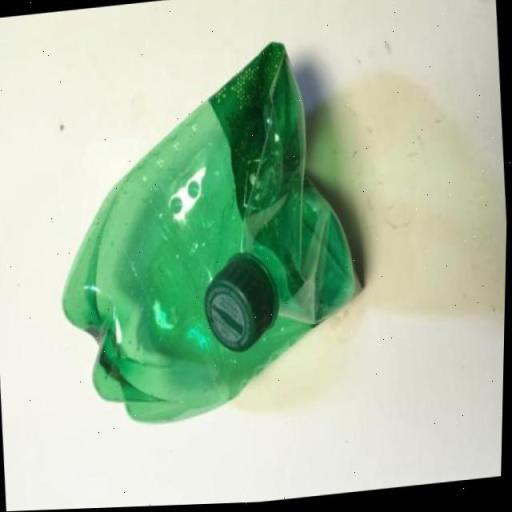plastic: (42, 35, 378, 438)
